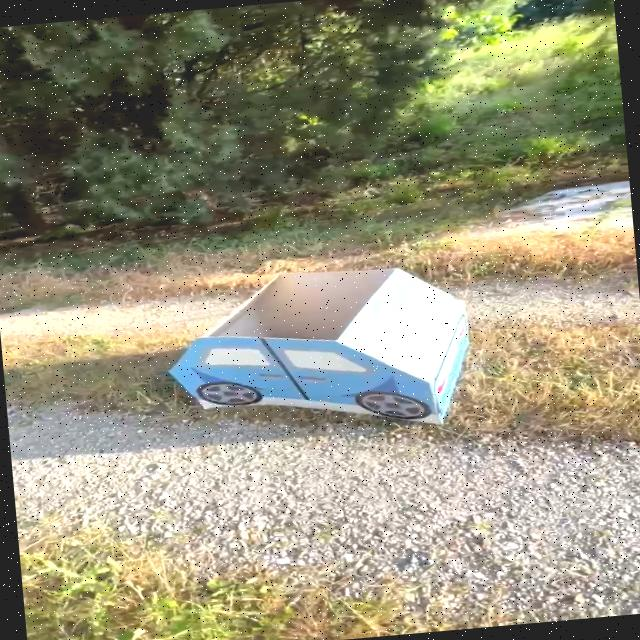blue_car: (121, 223, 581, 480)
